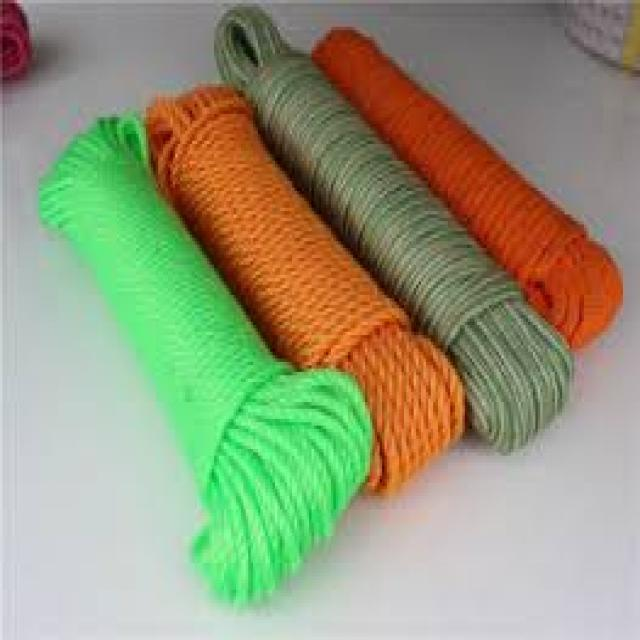rope: (34, 7, 623, 613)
